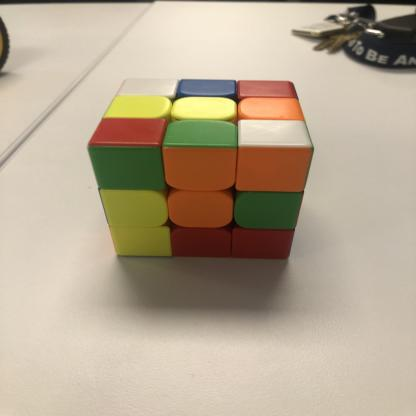UnsolvedCube: (79, 66, 317, 275)
